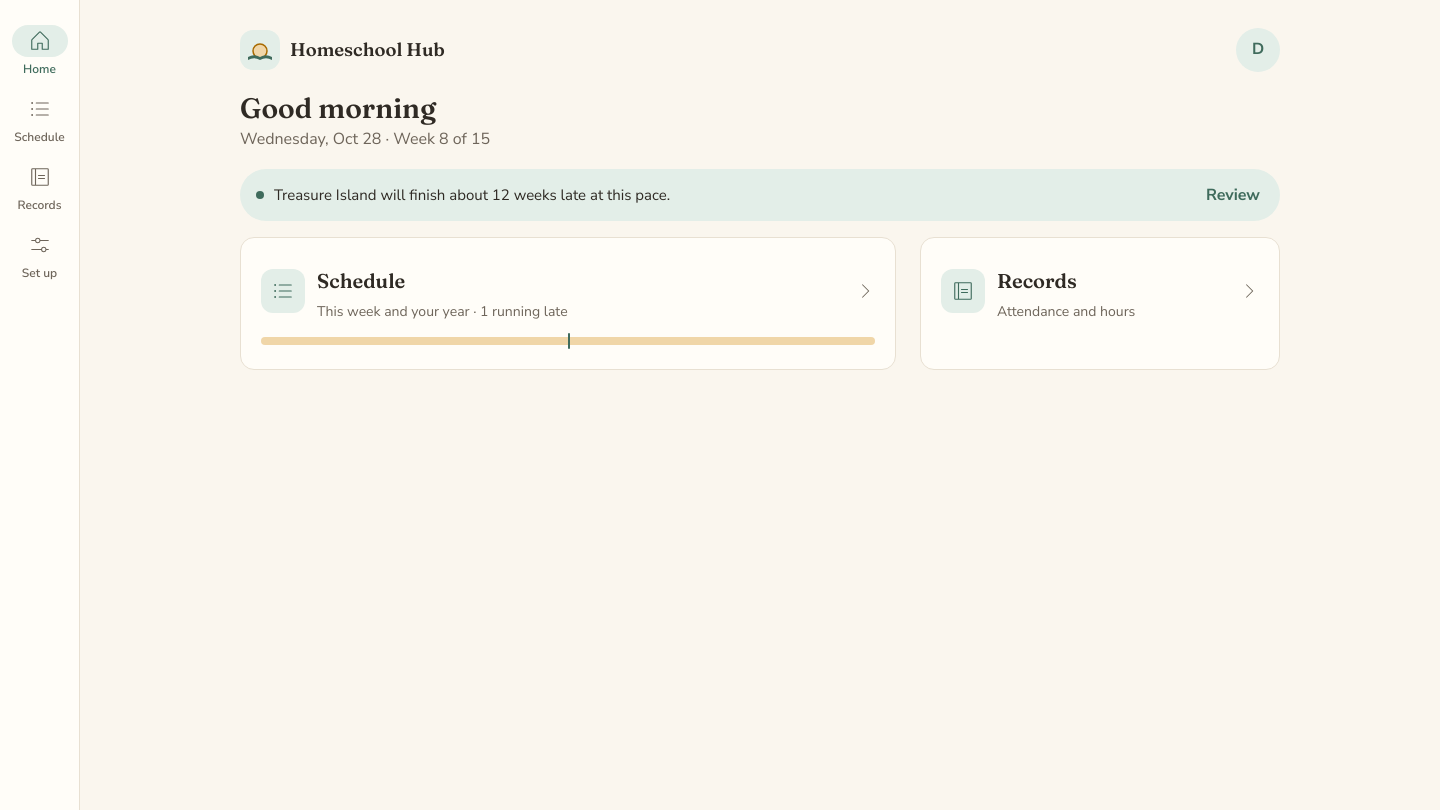
it: Home's briefing line › shows one line with a working Review action when something is late
What coordinates should you click on to do the following:
click the link "Review"
I would click on:
 (1233, 195)
Its box is 1206,184 -> 1260,206.
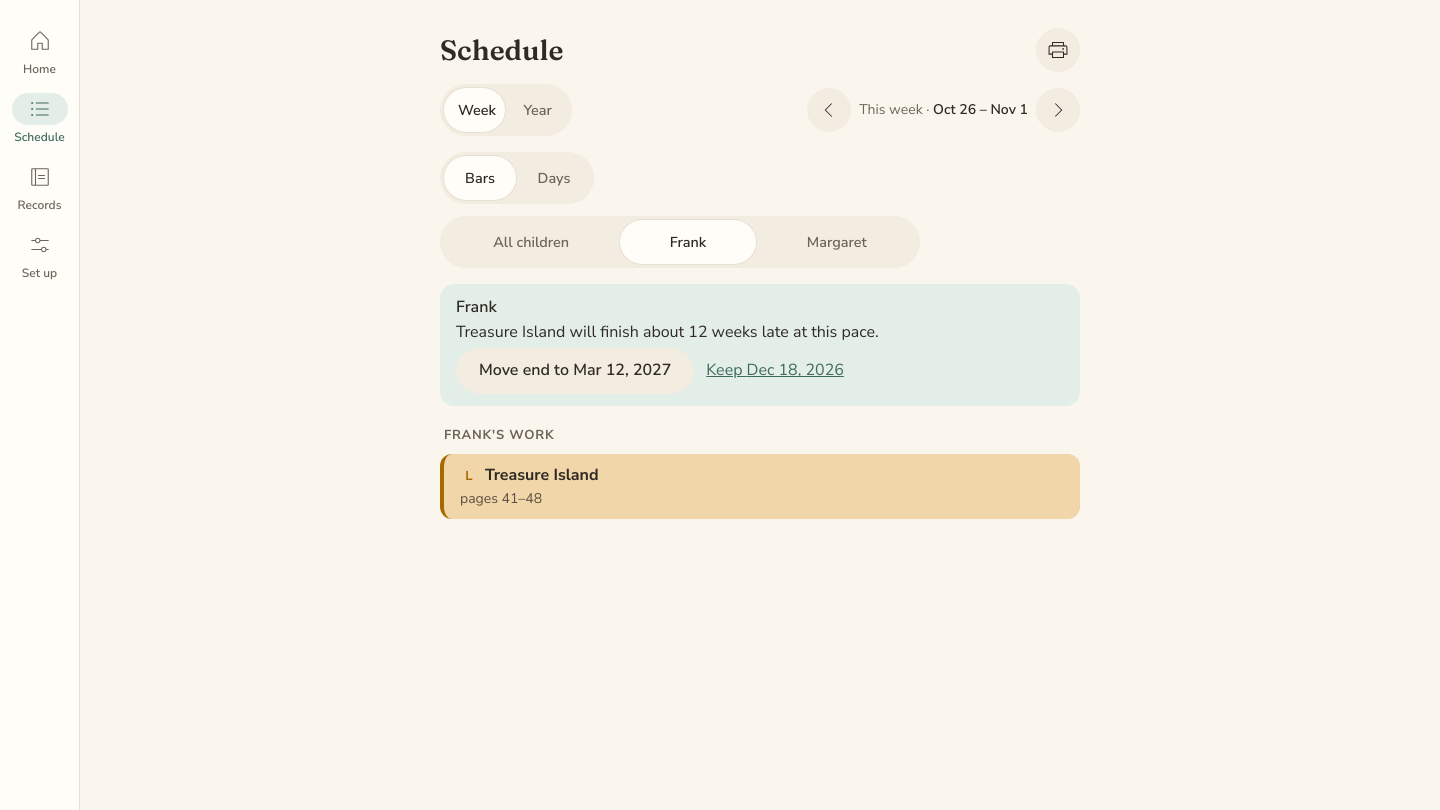
Expected: the button "Move end to Mar 12, 2027" is shown, 456,348 -> 694,394
